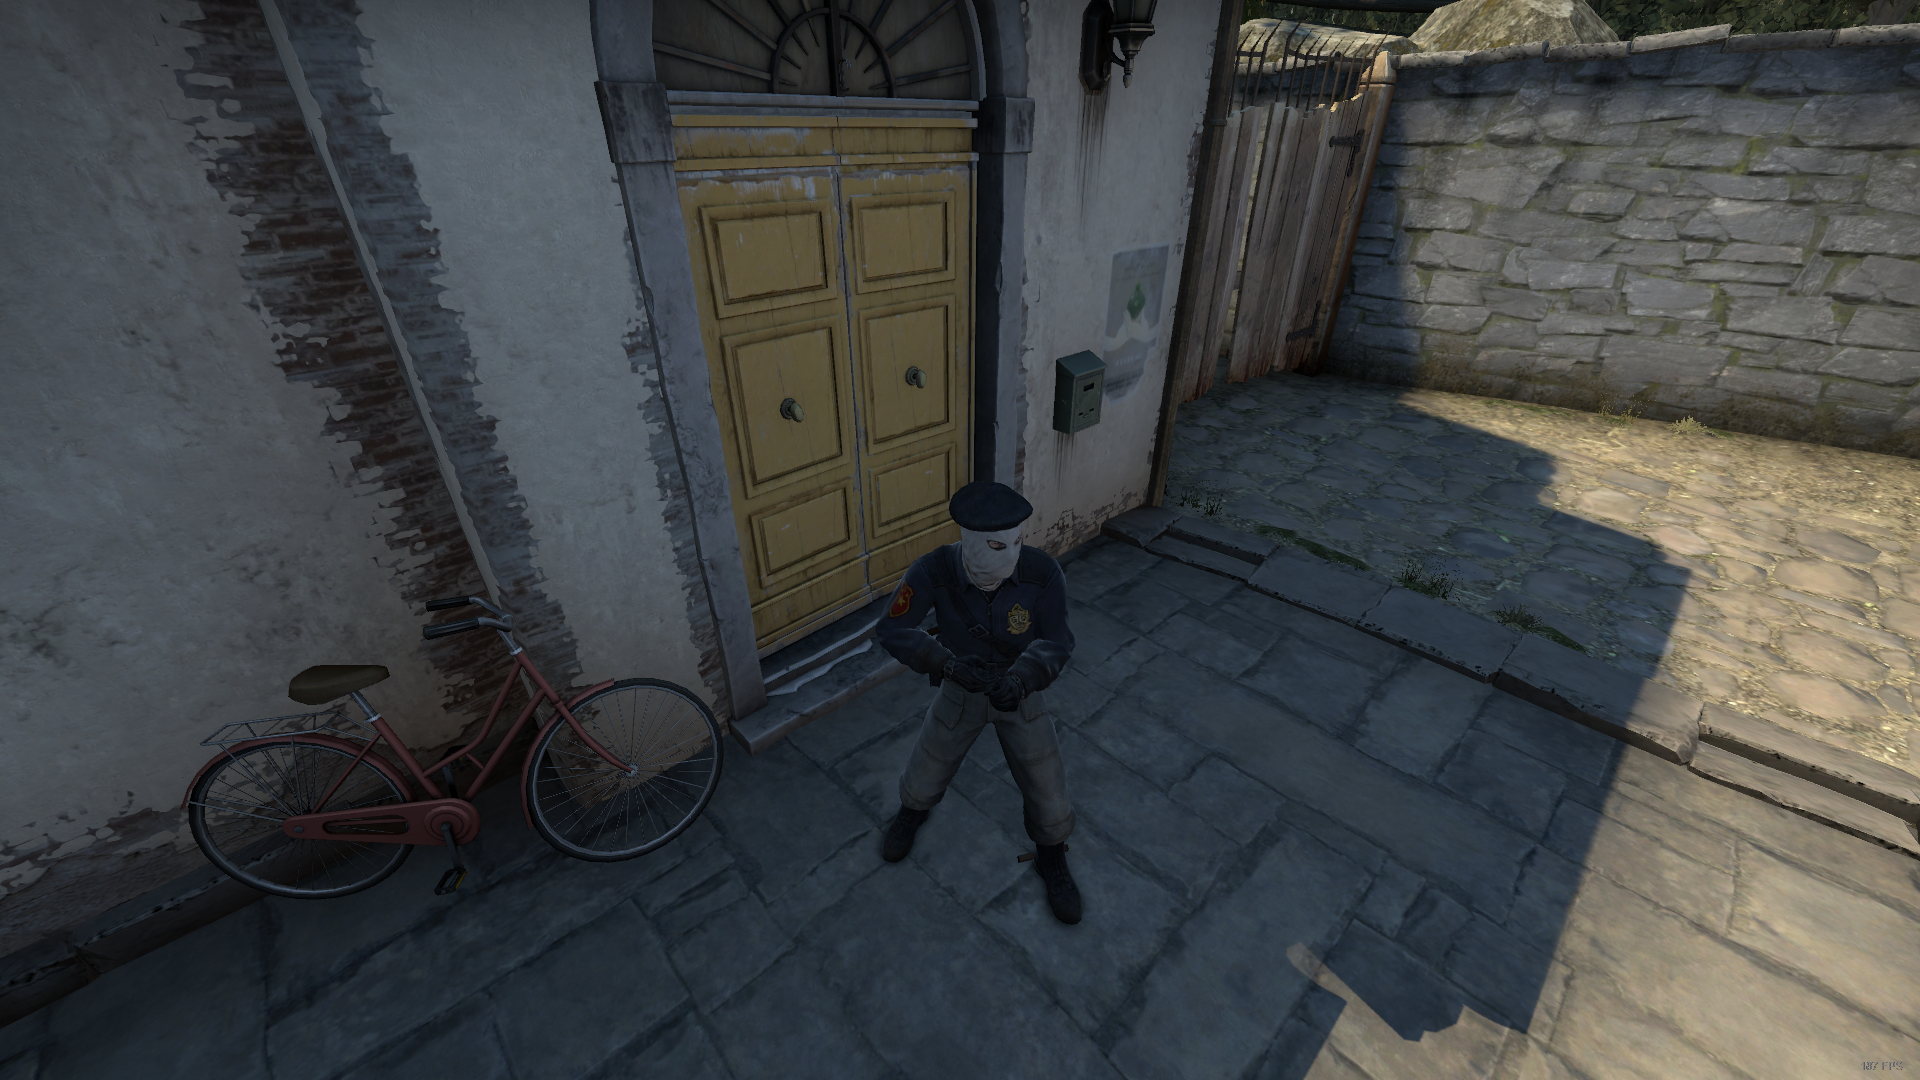t: (866, 475, 1112, 932)
